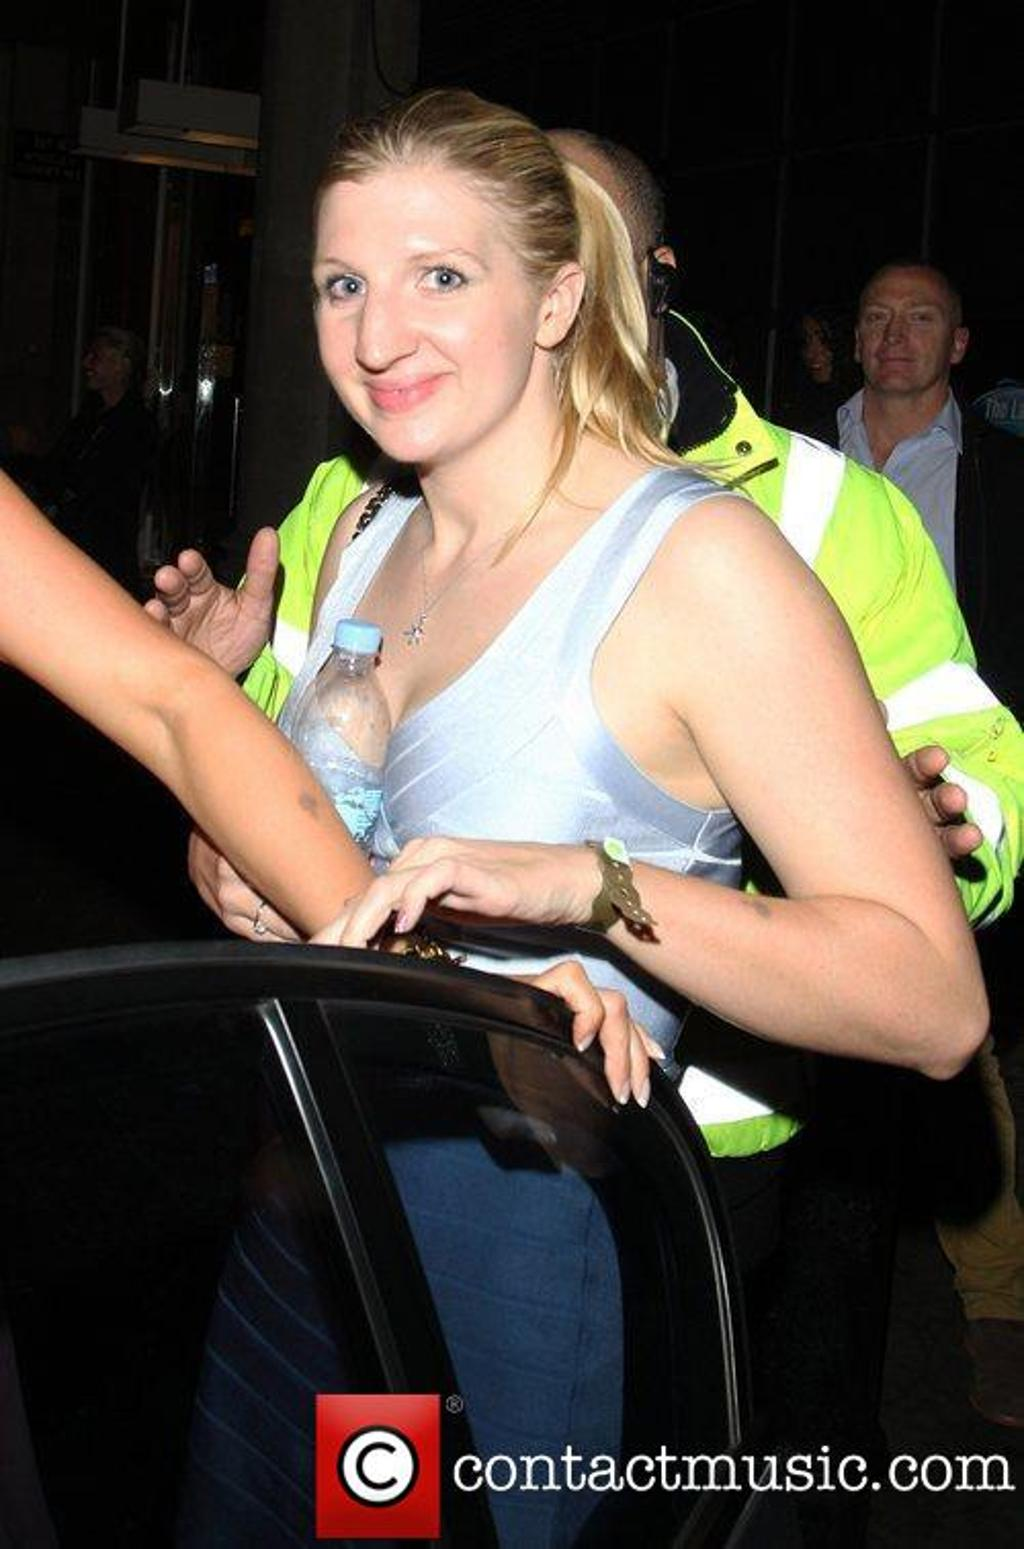face: (296, 199, 523, 462), (864, 269, 949, 402)
